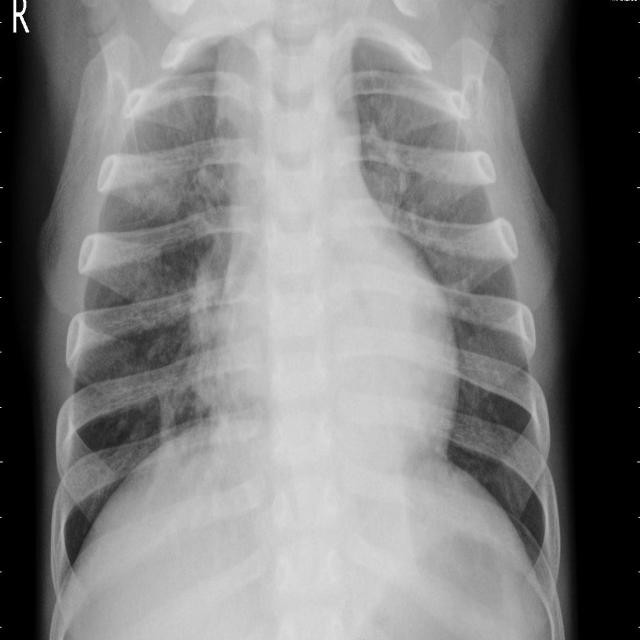high-pneumonia: (166, 221, 230, 425)
low-pneumonia: (362, 81, 460, 270)
